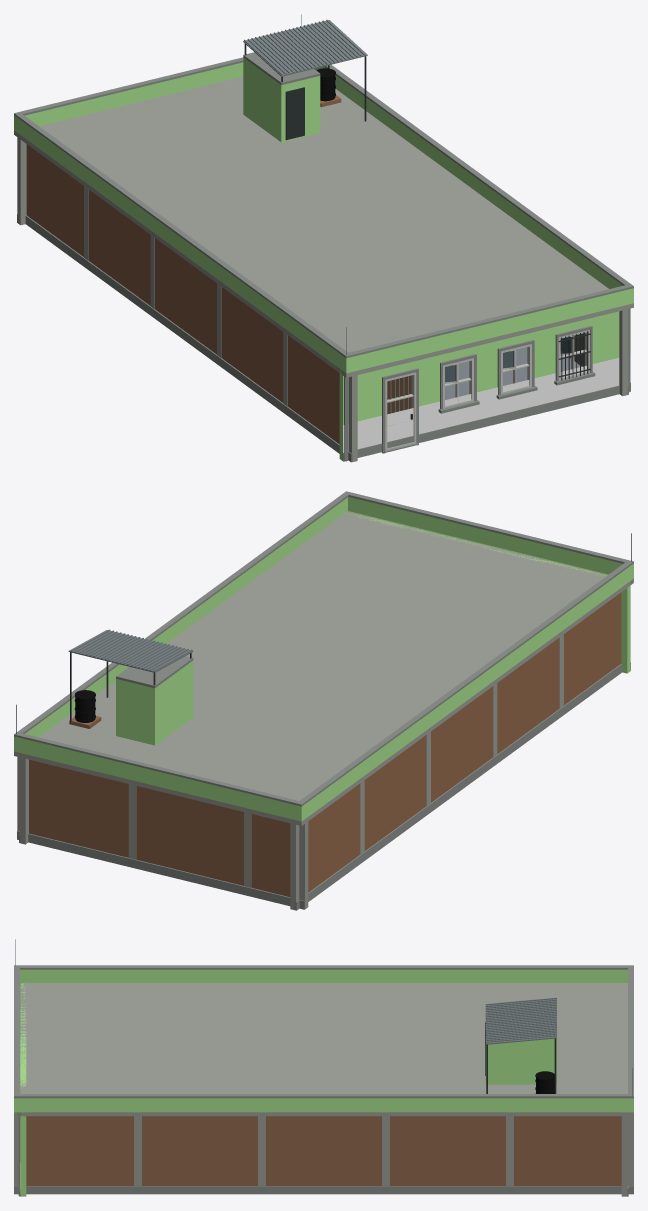
Rendered from house_seed2595_residential.glb.
3 renders of one model, top to bottom at view 1: azimuth 30°, elevation 25°; view 2: azimuth 150°, elevation 25°; view 3: azimuth 270°, elevation 25°, orthographic. The views are drawn at different scales.
Parts seen in each view (by area): view 1: roof_slab_11, wall_7, parapet_0, parapet_cap_2, wall_0, decal_13, plinth_2, wall_11, rooftop_room_0, canopy_sheet_8, corrugation_8, window_panel_4 (+8 smaller); view 2: roof_slab_11, wall_7, parapet_0, parapet_cap_2, wall_11, plinth_2, rooftop_room_0, corrugation_8, canopy_sheet_8, wall_0, rooftop_room_cap_2; view 3: roof_slab_11, wall_7, parapet_0, parapet_cap_2, plinth_2, wall_11, corrugation_8, rooftop_room_0, canopy_sheet_8, wall_0.
Boxes of the visible parts, box(x1,y1,x2,y2) form: roof_slab_11: box(14, 76, 633, 377); wall_7: box(26, 144, 583, 443); parapet_0: box(14, 62, 633, 373); parapet_cap_2: box(14, 57, 633, 358); wall_0: box(339, 309, 630, 460); decal_13: box(343, 355, 630, 452); plinth_2: box(17, 214, 630, 462); wall_11: box(17, 77, 628, 461); rooftop_room_0: box(243, 57, 320, 142); canopy_sheet_8: box(243, 20, 367, 76); corrugation_8: box(244, 19, 365, 75); window_panel_4: box(445, 333, 584, 399); roof_slab_11: box(14, 511, 633, 825); wall_7: box(29, 592, 621, 896); parapet_0: box(14, 497, 633, 821); parapet_cap_2: box(14, 491, 633, 806); wall_11: box(17, 512, 563, 910); plinth_2: box(17, 662, 630, 910); rooftop_room_0: box(116, 660, 193, 745); corrugation_8: box(71, 629, 192, 671); canopy_sheet_8: box(68, 630, 193, 672); wall_0: box(345, 512, 630, 673); rooftop_room_cap_2: box(116, 656, 193, 688); roof_slab_11: box(14, 983, 633, 1116); wall_7: box(26, 1116, 621, 1185); parapet_0: box(14, 969, 633, 1112); parapet_cap_2: box(14, 965, 633, 1098); plinth_2: box(14, 1186, 633, 1196); wall_11: box(14, 984, 633, 1196); corrugation_8: box(485, 997, 556, 1042); rooftop_room_0: box(485, 1038, 556, 1084); canopy_sheet_8: box(485, 999, 556, 1044); wall_0: box(20, 983, 26, 1196).
Size of the model in its own units: 10 by 5.51 by 20.
